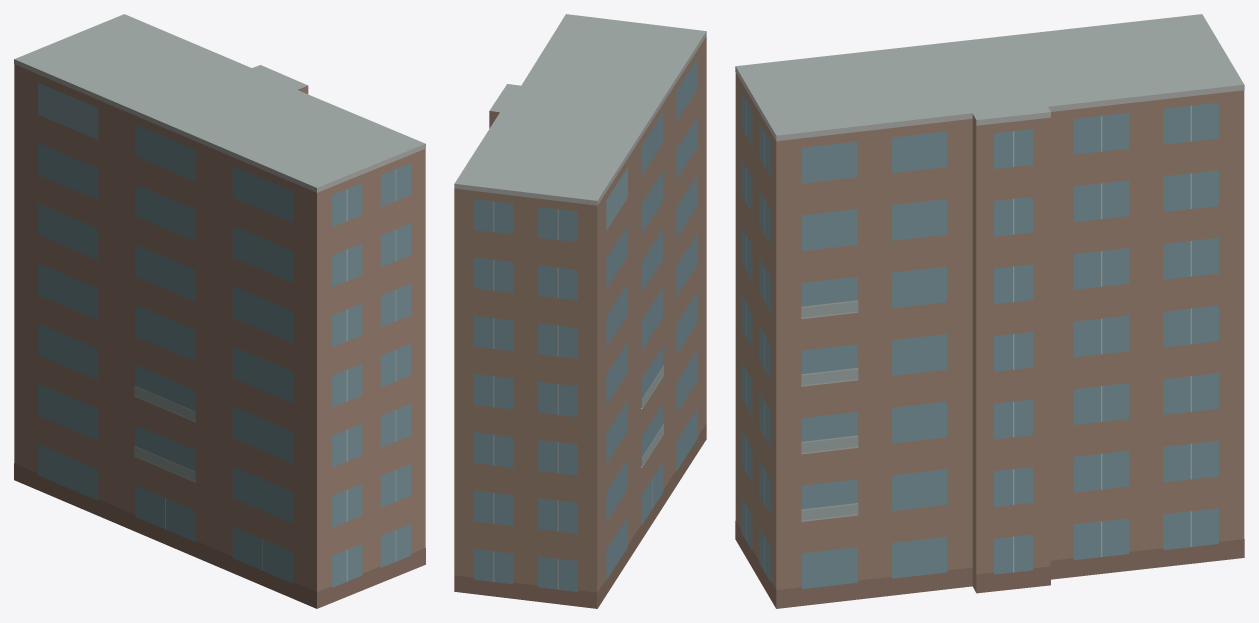
The model's file is survey-upis-32562405.glb.
3 views of the same model, side by side, from view 1: azimuth 30°, elevation 25°; view 2: azimuth 150°, elevation 25°; view 3: azimuth 270°, elevation 25° (orthographic). The views are drawn at different scales.
Parts seen in each view (by area): view 1: survey-upis-32562405.tmp; view 2: survey-upis-32562405.tmp; view 3: survey-upis-32562405.tmp.
Boxes of the visible parts, <box> form: survey-upis-32562405.tmp: <box>14,14,425,608</box>; survey-upis-32562405.tmp: <box>454,14,706,608</box>; survey-upis-32562405.tmp: <box>735,14,1244,608</box>.
Bounding box in the file's own units: 11.6 × 21 × 20.49.
